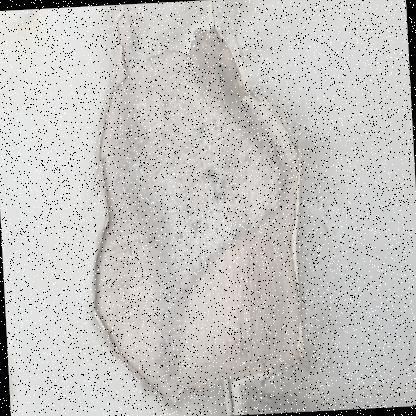Crack: (53, 0, 362, 415)
